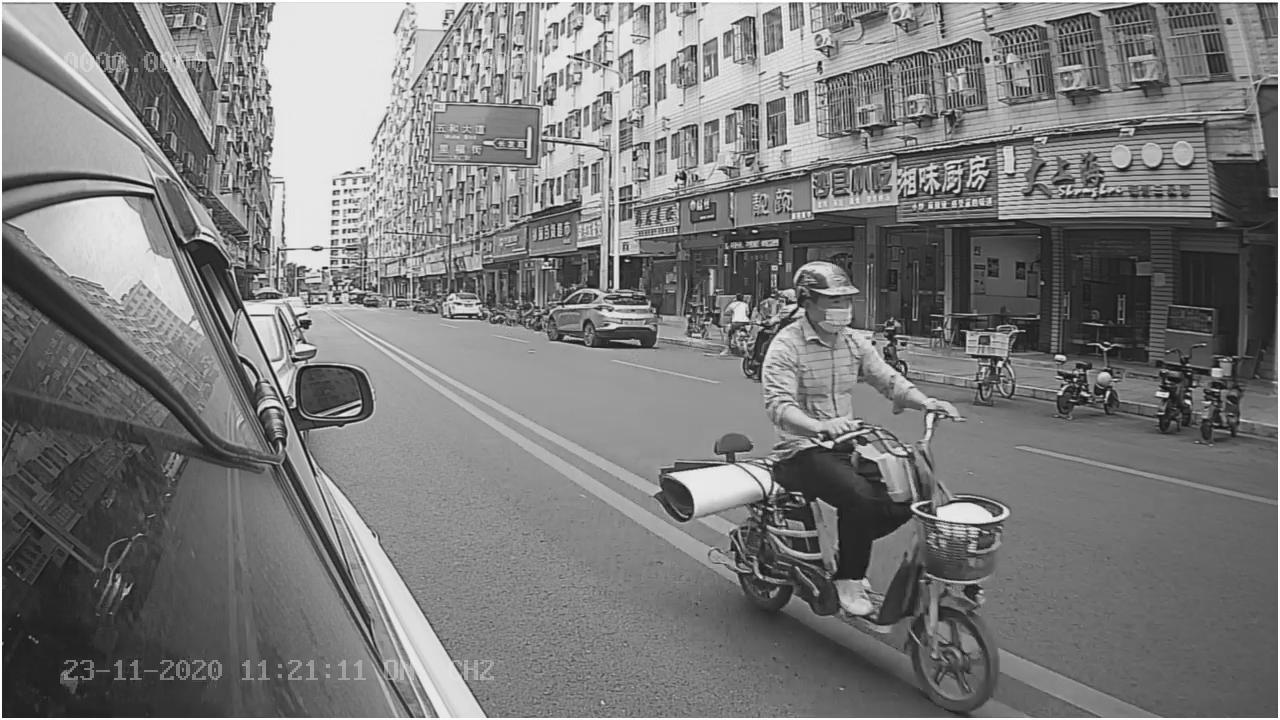person: (754, 255, 967, 433)
